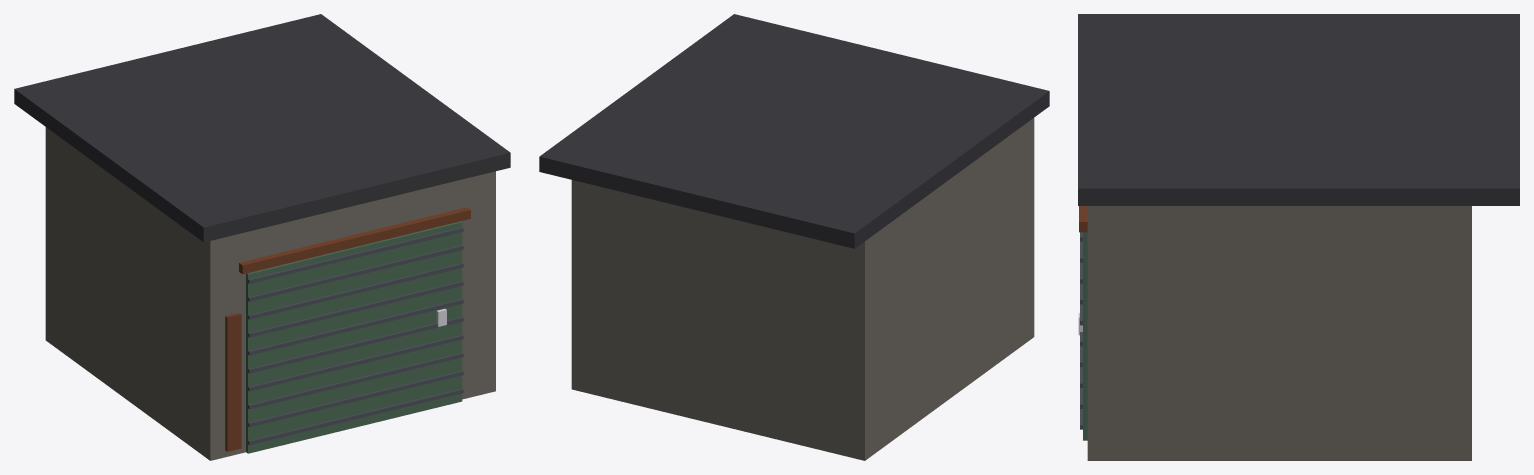
File: garage.glb
The picture shows the model from 3 angles, left to right: view 1: azimuth 30°, elevation 25°; view 2: azimuth 150°, elevation 25°; view 3: azimuth 270°, elevation 25°; orthographic projection. The views are drawn at different scales.
Parts seen in each view (by area): view 1: garage; view 2: garage; view 3: garage.
Part boxes in pixels (x1,y1,x2,y2): garage: [14, 14, 510, 460]; garage: [539, 14, 1049, 460]; garage: [1078, 14, 1519, 460].
Bounding box in the file's own units: 4.3 × 3.2 × 4.6.
